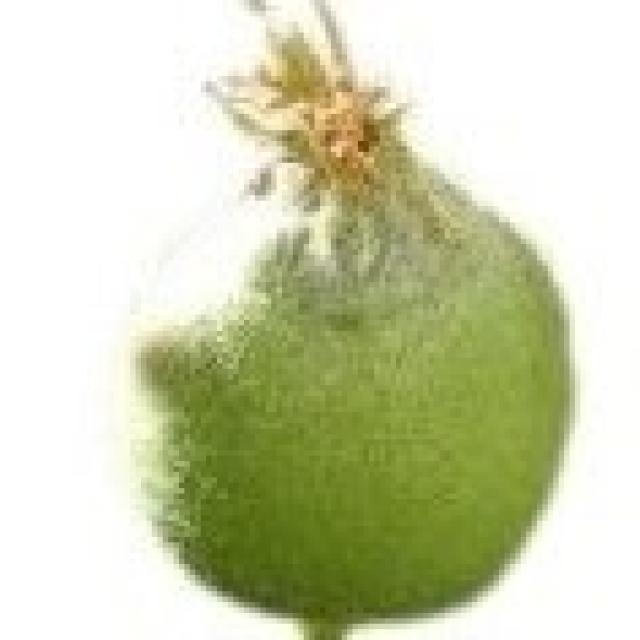20-_ripeness: (125, 41, 577, 610)
